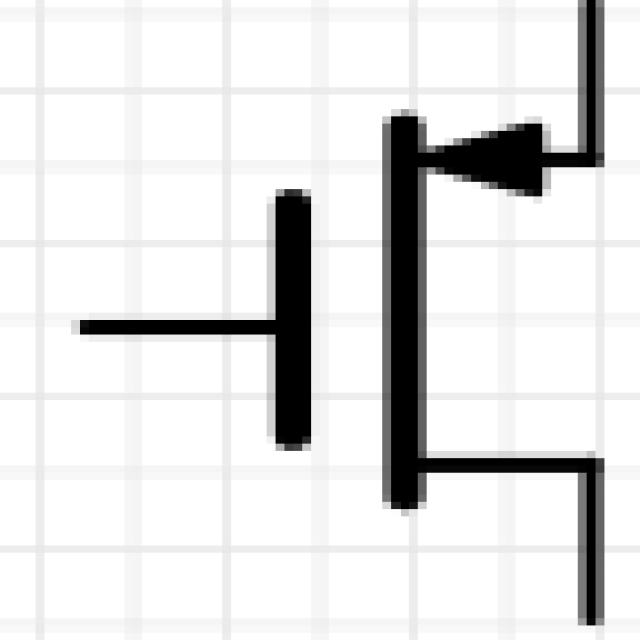pmos: (61, 24, 640, 583)
